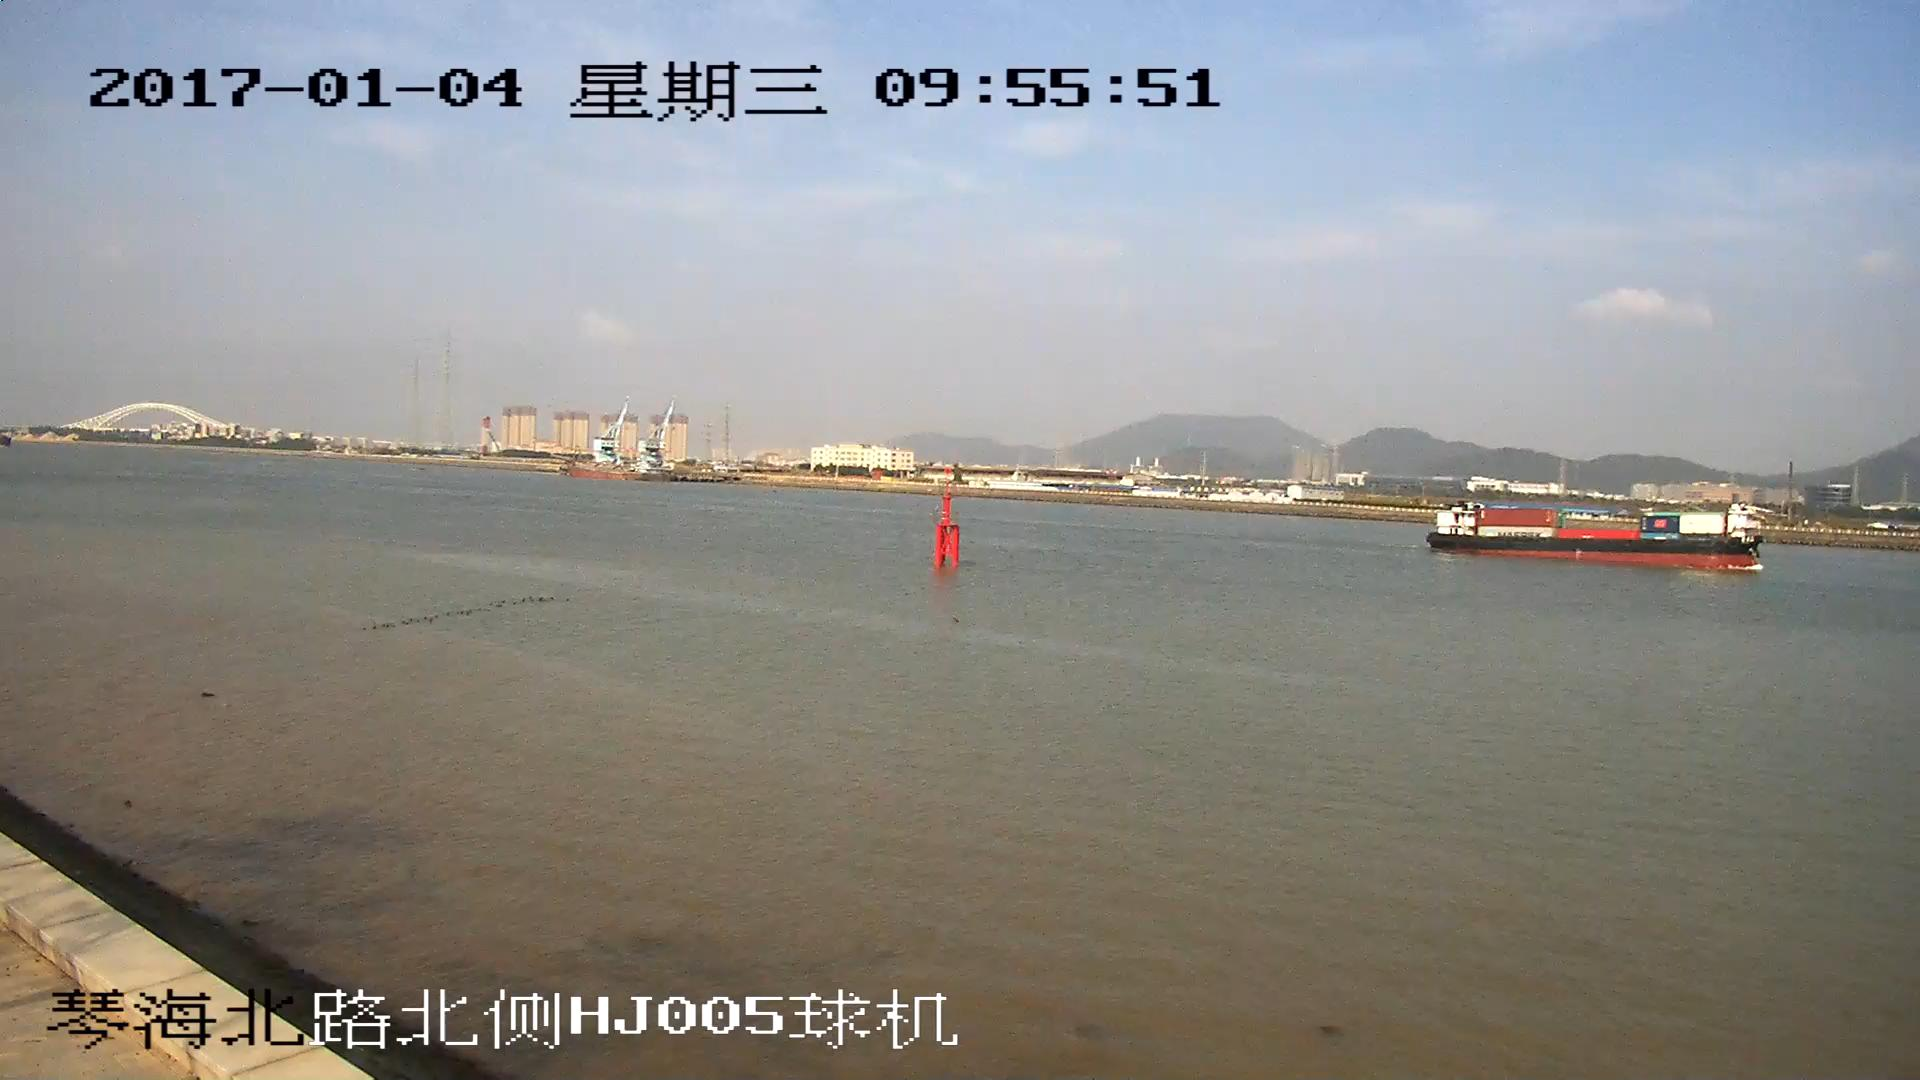container ship: (1426, 500, 1759, 572)
